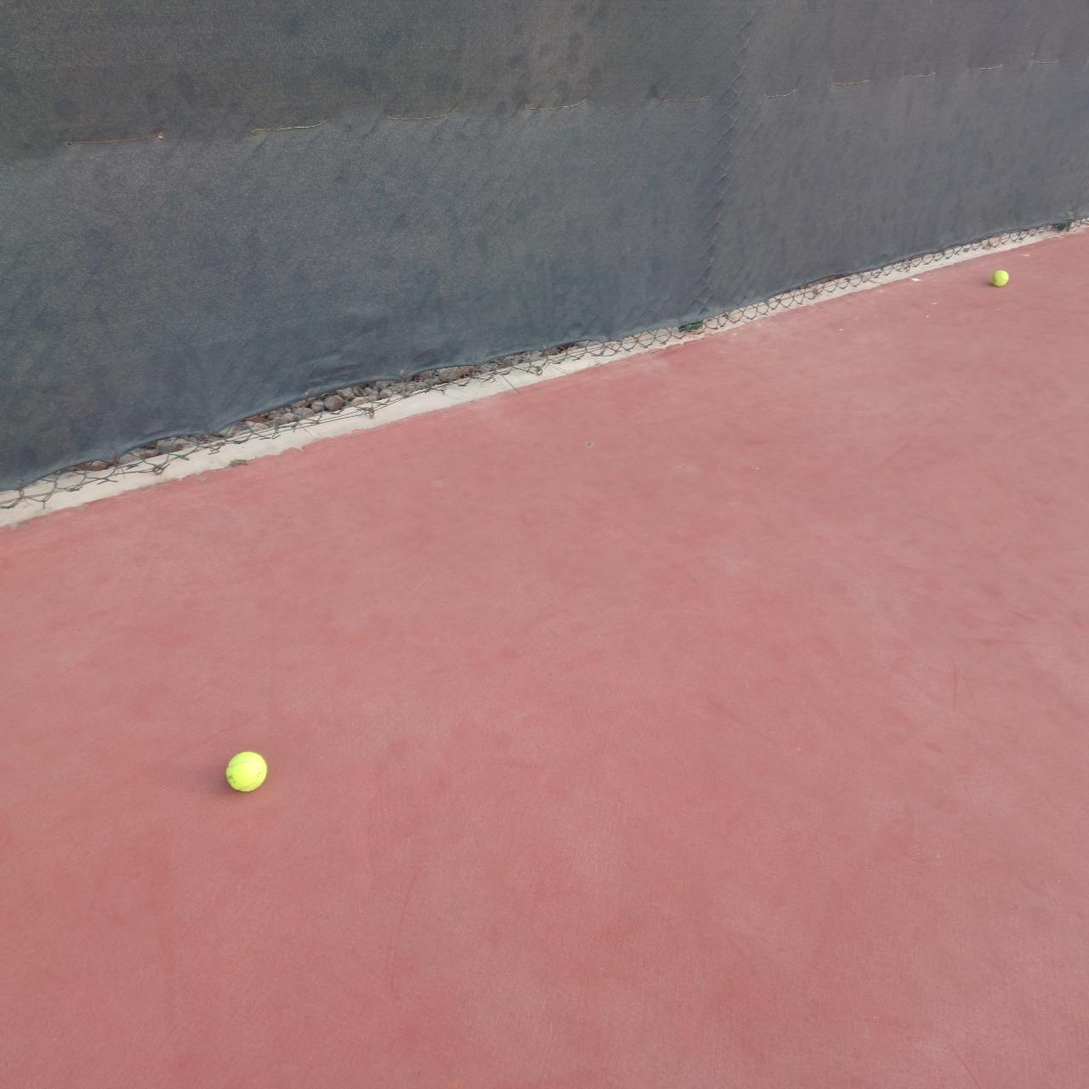tennis-ball: (223, 748, 268, 793), (991, 269, 1009, 287)
